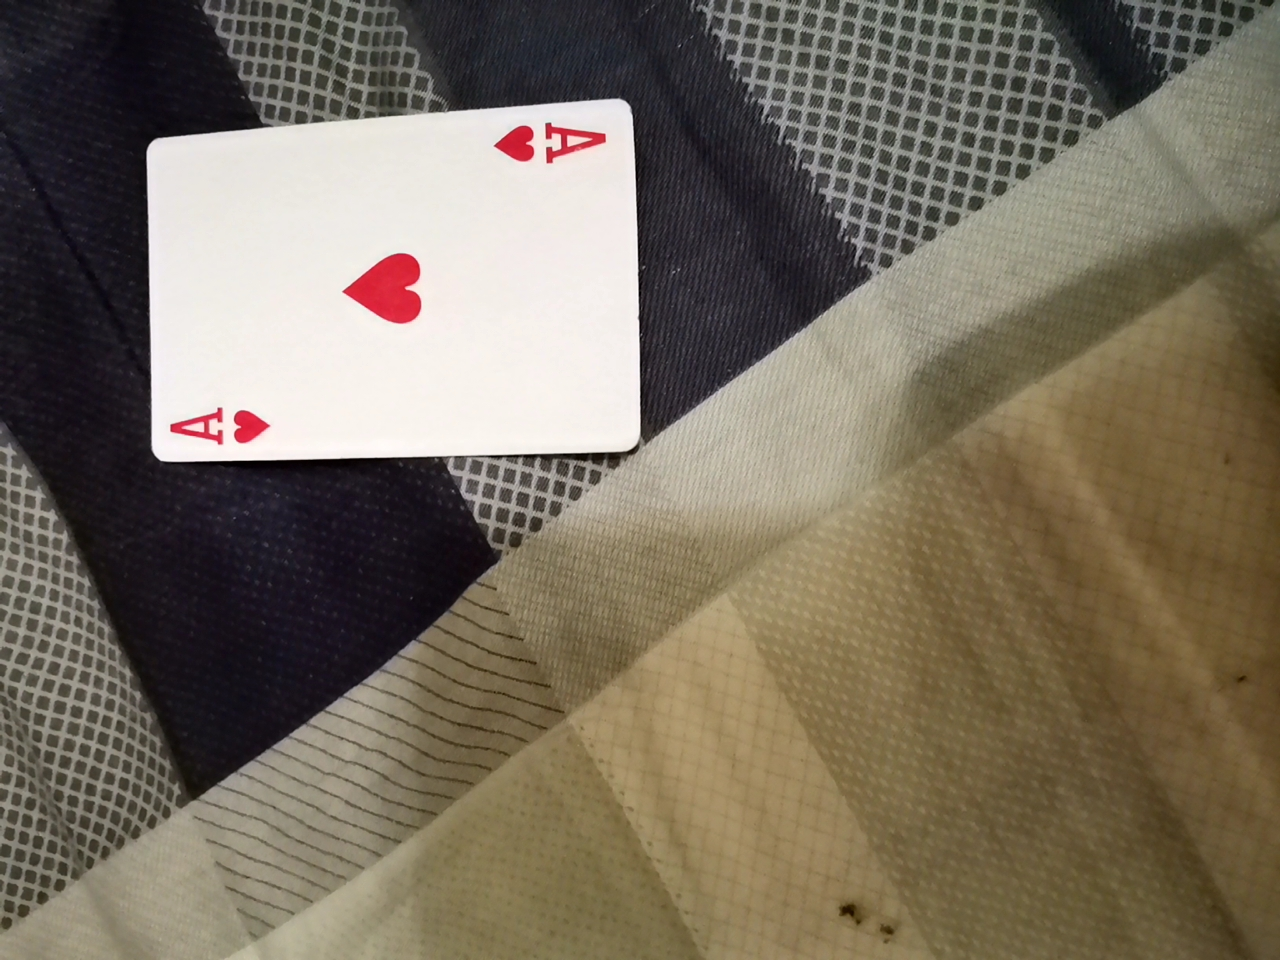hx a: (136, 87, 653, 458)
